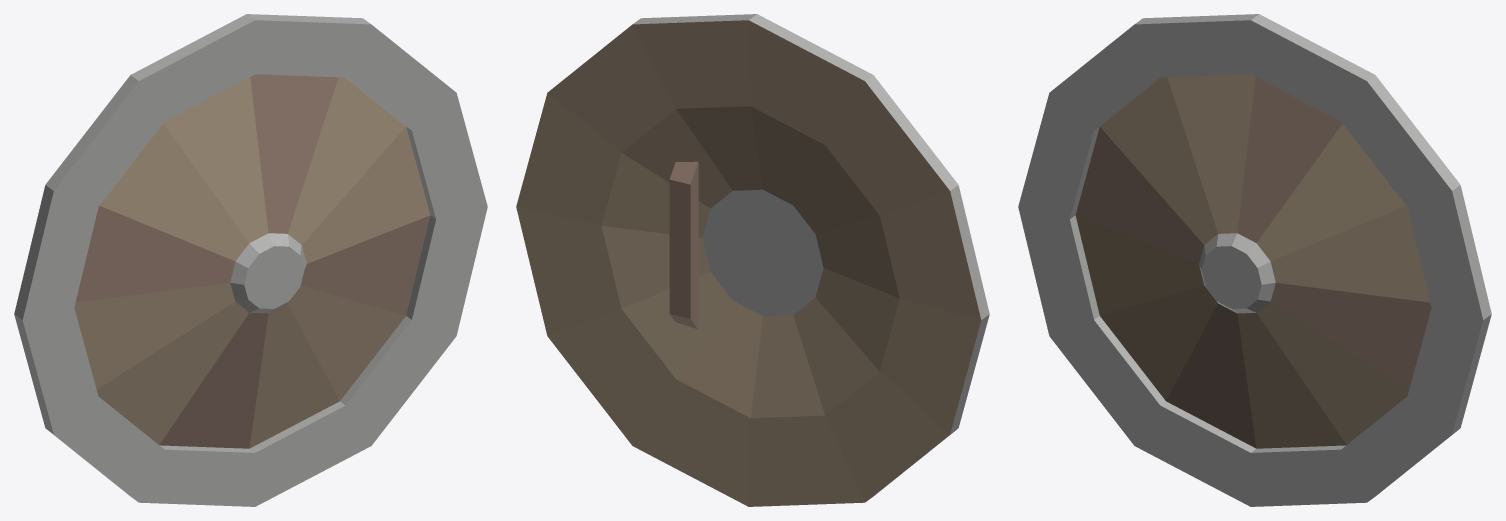
File: shield_round.glb
3 renders of one model, left to right at view 1: azimuth 30°, elevation 25°; view 2: azimuth 150°, elevation 25°; view 3: azimuth 330°, elevation 25°, orthographic.
Visible parts, largest first — view 1: lshield; view 2: lshield; view 3: lshield.
Part boxes in pixels (x1,y1,x2,y2): lshield: [14, 14, 487, 506]; lshield: [516, 14, 989, 506]; lshield: [1018, 14, 1491, 506].
Size of the model in its own units: 0.7362 by 0.7362 by 0.0756.
1 material, 1 textured.
